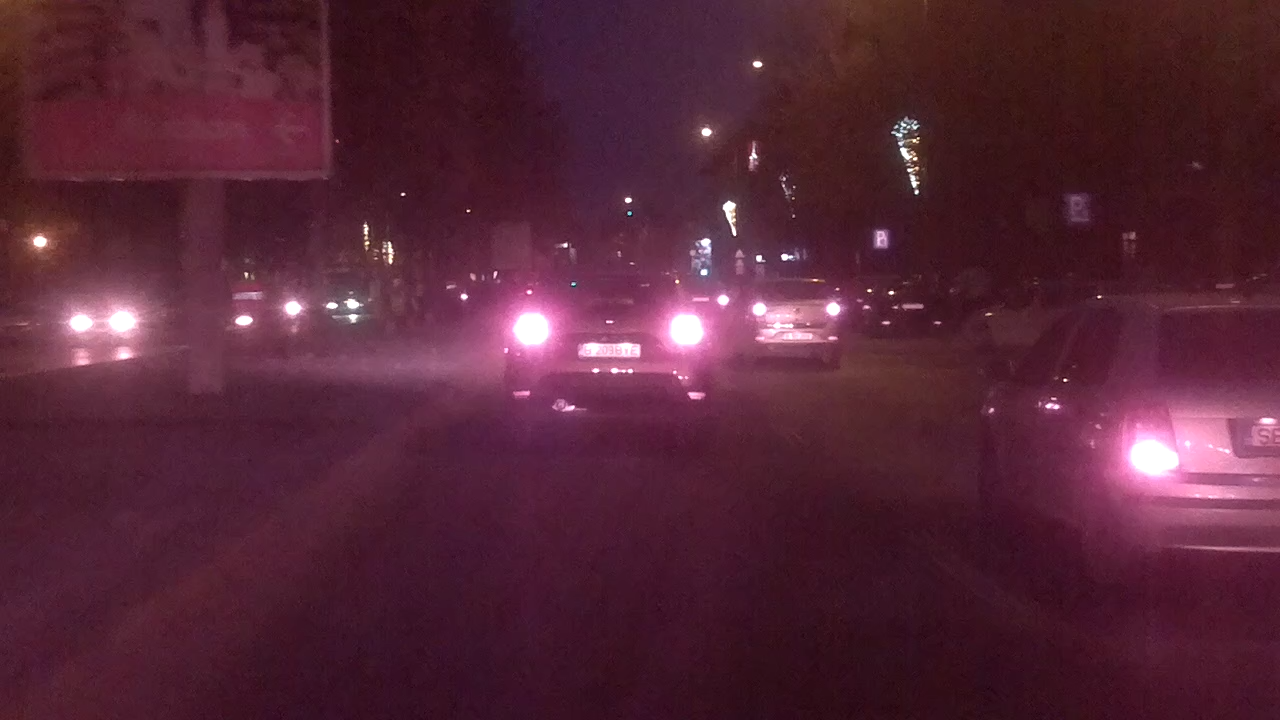license-plate: (575, 340, 643, 359)
